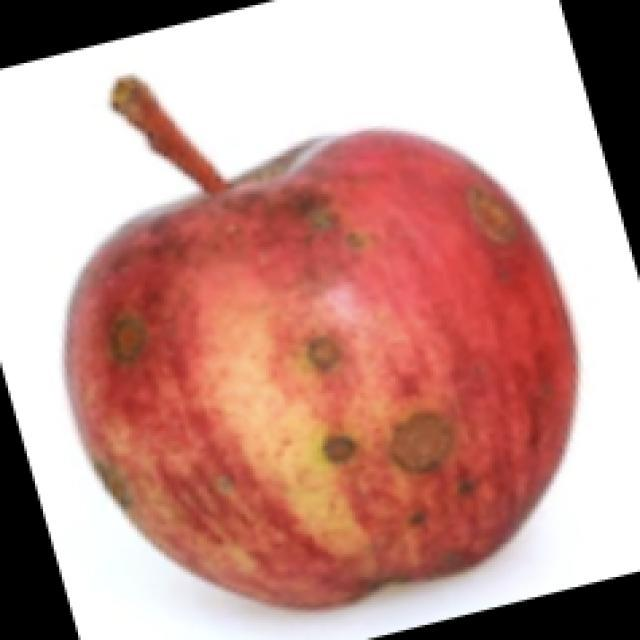Rotten: (40, 121, 563, 592)
